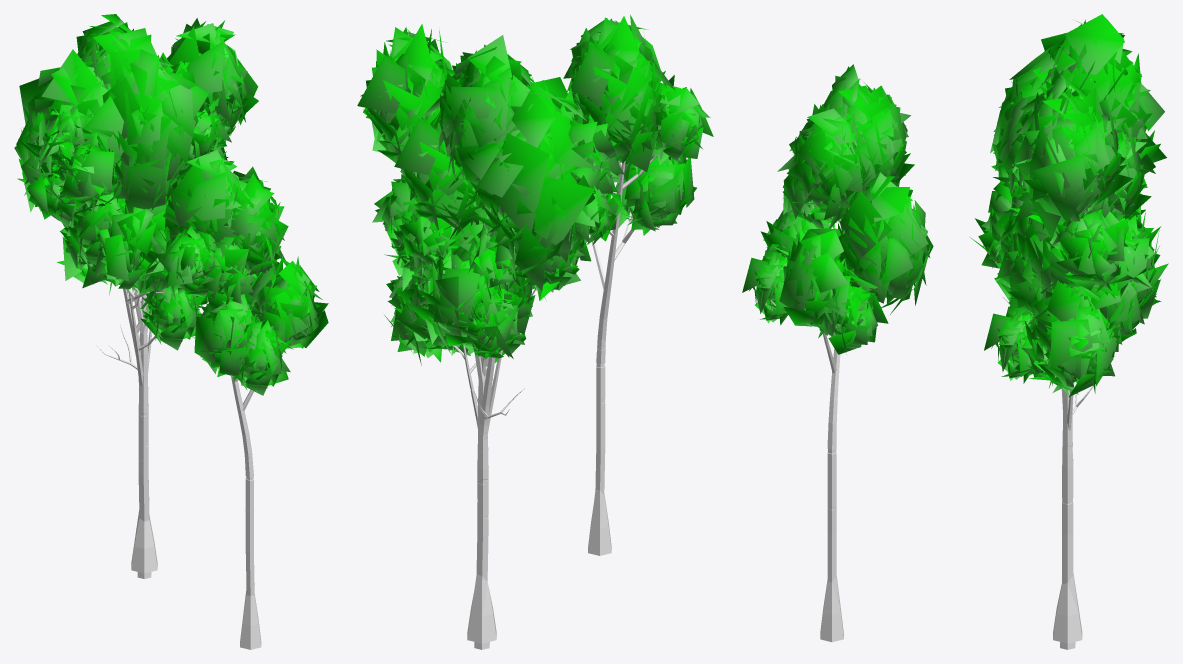
File: Aspen Trees.fbx
3 renders of one model, left to right at view 1: azimuth 30°, elevation 25°; view 2: azimuth 150°, elevation 25°; view 3: azimuth 270°, elevation 25°, orthographic. The views are drawn at different scales.
Visible parts, largest first — view 1: Aspen 1, Aspen 3, Aspen 5, Aspen 2, Aspen 4, Aspen 1 Dead; view 2: Aspen 3, Aspen 5, Aspen 1, Aspen 4, Aspen 2, Aspen 1 Dead; view 3: Aspen 1, Aspen 3, Aspen 5, Aspen 2, Aspen 4.
Boxes of the visible parts, x1=… form: Aspen 1: x1=152, y1=150, x2=328, y2=649; Aspen 3: x1=14, y1=18, x2=258, y2=573; Aspen 5: x1=57, y1=14, x2=198, y2=323; Aspen 2: x1=104, y1=271, x2=206, y2=578; Aspen 4: x1=78, y1=195, x2=207, y2=369; Aspen 1 Dead: x1=120, y1=281, x2=165, y2=388; Aspen 3: x1=357, y1=24, x2=624, y2=643; Aspen 5: x1=372, y1=35, x2=591, y2=365; Aspen 1: x1=563, y1=14, x2=713, y2=555; Aspen 4: x1=384, y1=220, x2=535, y2=420; Aspen 2: x1=394, y1=275, x2=535, y2=649; Aspen 1 Dead: x1=480, y1=214, x2=536, y2=439; Aspen 1: x1=742, y1=64, x2=933, y2=642; Aspen 3: x1=993, y1=24, x2=1166, y2=643; Aspen 5: x1=970, y1=14, x2=1168, y2=324; Aspen 2: x1=984, y1=217, x2=1114, y2=649; Aspen 4: x1=994, y1=209, x2=1140, y2=414.
Size of what is drawn, in the model's own units: 6140 by 14457 by 9057.
